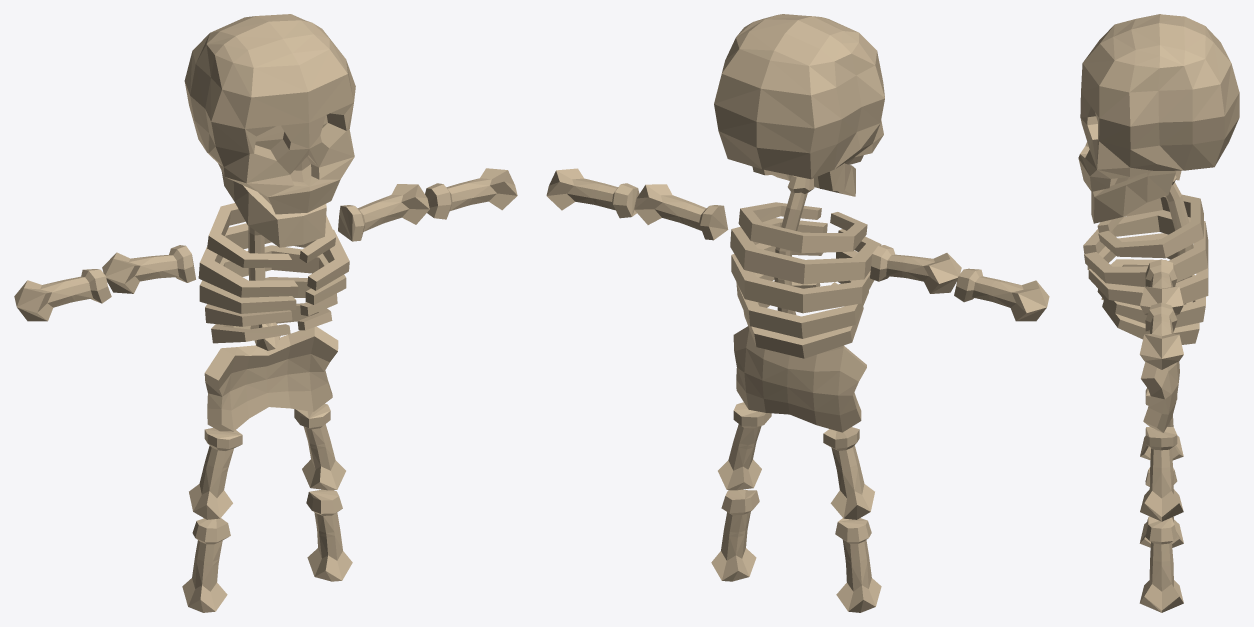
File: enemy_archer.glb
The picture shows the model from 3 angles, left to right: view 1: azimuth 30°, elevation 25°; view 2: azimuth 150°, elevation 25°; view 3: azimuth 270°, elevation 25°; orthographic projection. The views are drawn at different scales.
Parts seen in each view (by area): view 1: SK_Skeleton.usda; view 2: SK_Skeleton.usda; view 3: SK_Skeleton.usda.
Boxes of the visible parts, x1,y1,x2,y2 form: SK_Skeleton.usda: (14,14,517,612); SK_Skeleton.usda: (546,14,1049,612); SK_Skeleton.usda: (1078,14,1239,612).
Size of the model in its own units: 4.6 by 5.09 by 1.33.
